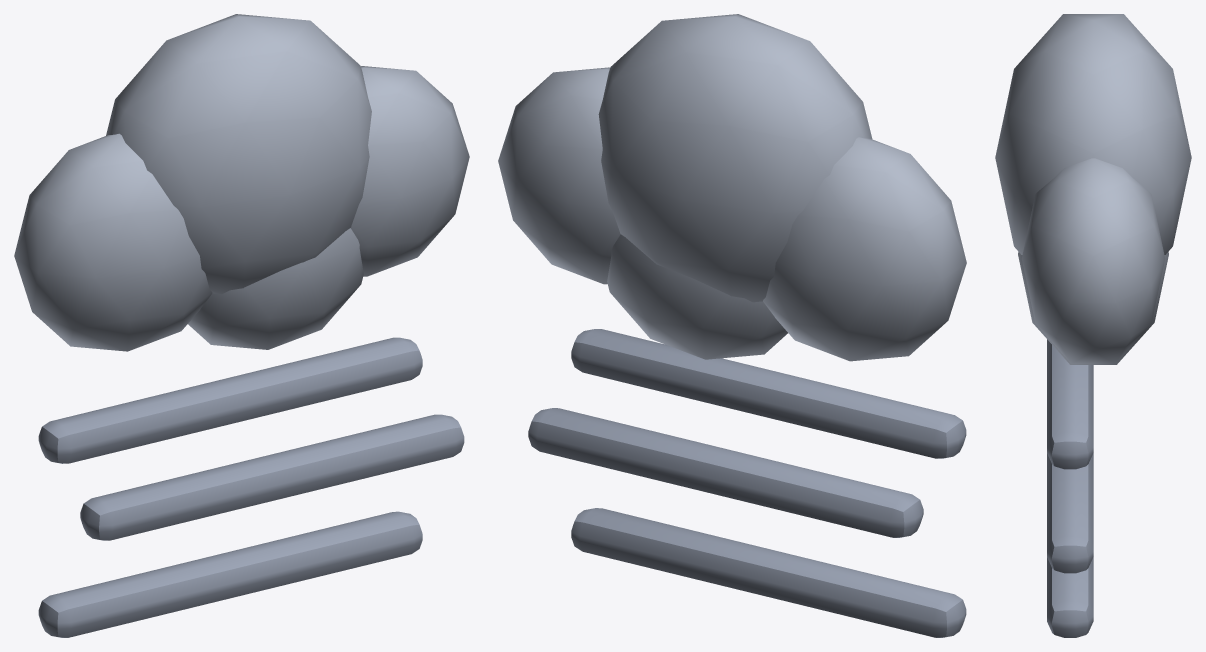
File: ui_fog.glb
The picture shows the model from 3 angles, left to right: view 1: azimuth 30°, elevation 25°; view 2: azimuth 150°, elevation 25°; view 3: azimuth 270°, elevation 25°; orthographic projection. The views are drawn at different scales.
Parts seen in each view (by area): view 1: body; view 2: body; view 3: body.
Part boxes in pixels (x1=…): body: x1=14, y1=14, x2=469, y2=637; body: x1=498, y1=14, x2=966, y2=637; body: x1=995, y1=14, x2=1191, y2=637.
Bounding box in the file's own units: 0.4155 × 0.5175 × 0.169.
